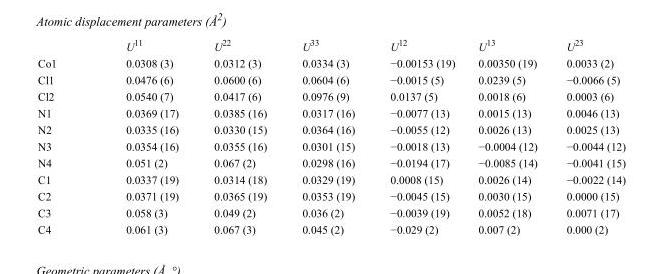table: (37, 37, 624, 235)
table column: (90, 37, 195, 235), (371, 37, 466, 235), (195, 37, 283, 235), (283, 37, 371, 235), (466, 37, 551, 235), (551, 37, 624, 235), (37, 37, 90, 235)
table column header: (37, 37, 624, 54)
table row: (37, 37, 624, 54), (37, 54, 624, 71), (37, 87, 624, 104), (37, 120, 624, 137), (37, 137, 624, 154), (37, 170, 624, 187), (37, 187, 624, 204), (37, 71, 624, 87), (37, 104, 624, 120), (37, 154, 624, 170), (37, 204, 624, 220), (37, 220, 624, 235)
